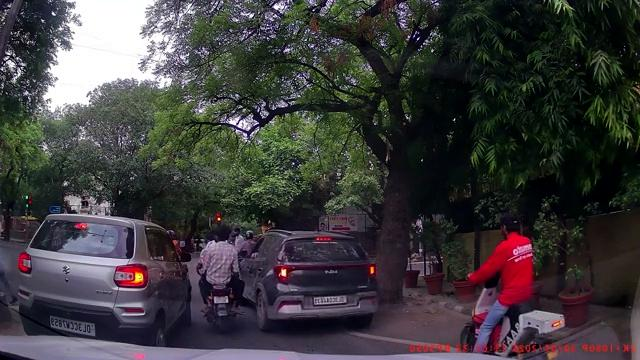motorcycle_without_helmet: (456, 212, 565, 353)
passenger_without_helmet: (199, 222, 240, 332)
